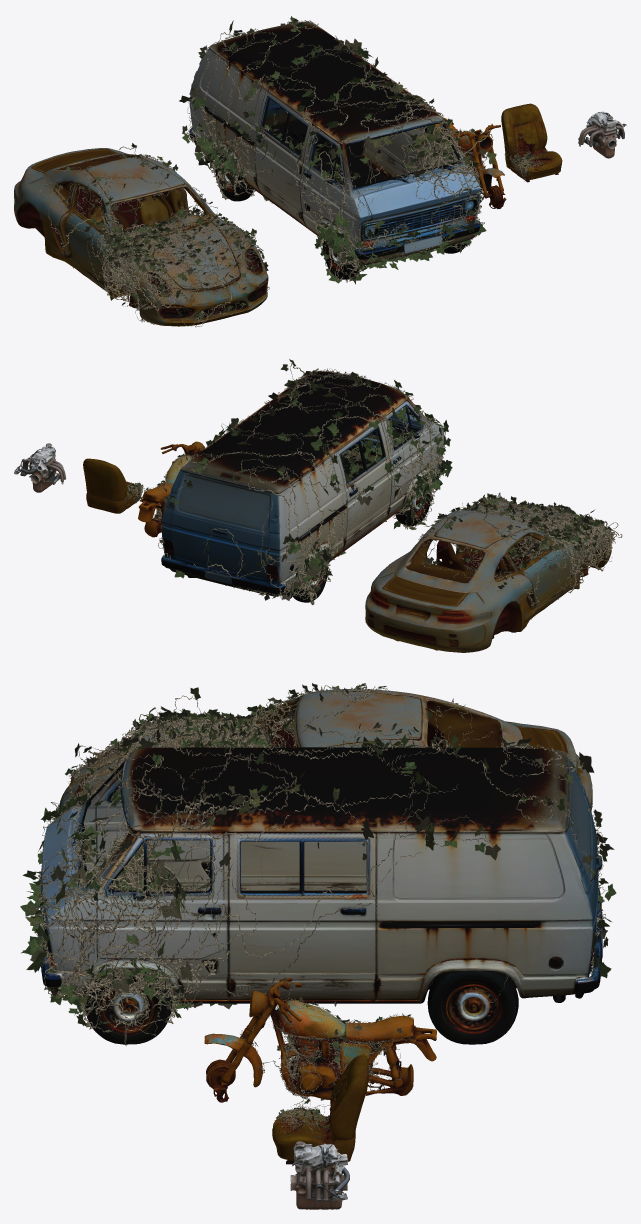
The picture shows the model from 3 angles, top to bottom: view 1: azimuth 30°, elevation 25°; view 2: azimuth 150°, elevation 25°; view 3: azimuth 270°, elevation 25°; orthographic projection. The views are drawn at different scales.
Parts seen in each view (by area): view 1: SM_asset_04, SM_asset_03, SM_ivy_10, SM_ivy_11, SM_ivy_06, SM_ivy_08, SM_ivy_09, SM_ivy_07, SM_asset_01, SM_ivy_05, SM_ivy_00, SM_asset_00 (+2 smaller); view 2: SM_asset_04, SM_asset_03, SM_ivy_10, SM_ivy_00, SM_ivy_11, SM_ivy_09, SM_ivy_08, SM_ivy_05, SM_asset_01, SM_ivy_07, SM_ivy_06, SM_asset_00 (+1 smaller); view 3: SM_asset_04, SM_ivy_06, SM_asset_03, SM_asset_00, SM_ivy_07, SM_ivy_10, SM_asset_01, SM_ivy_11, SM_ivy_09, SM_asset_02, SM_ivy_02, SM_ivy_05 (+4 smaller).
Boxes of the visible parts, x1,y1,x2,y2 form: SM_asset_04: [189, 21, 480, 279]; SM_asset_03: [14, 148, 268, 326]; SM_ivy_10: [39, 145, 269, 327]; SM_ivy_11: [44, 143, 268, 318]; SM_ivy_06: [260, 38, 493, 250]; SM_ivy_08: [244, 60, 484, 282]; SM_ivy_09: [247, 56, 486, 284]; SM_ivy_07: [252, 35, 496, 261]; SM_asset_01: [501, 103, 562, 182]; SM_ivy_05: [179, 16, 317, 199]; SM_ivy_00: [186, 20, 318, 201]; SM_asset_00: [432, 117, 506, 208]; SM_asset_04: [161, 371, 444, 602]; SM_asset_03: [365, 500, 611, 652]; SM_ivy_10: [418, 492, 622, 619]; SM_ivy_00: [158, 451, 370, 605]; SM_ivy_11: [420, 493, 612, 588]; SM_ivy_09: [277, 396, 452, 556]; SM_ivy_08: [285, 394, 447, 529]; SM_ivy_05: [159, 451, 373, 600]; SM_asset_01: [83, 458, 141, 513]; SM_ivy_07: [203, 359, 445, 555]; SM_ivy_06: [202, 363, 434, 476]; SM_asset_00: [138, 441, 205, 537]; SM_asset_04: [37, 747, 602, 1044]; SM_ivy_06: [36, 739, 508, 1045]; SM_asset_03: [59, 689, 592, 815]; SM_asset_00: [204, 977, 436, 1102]; SM_ivy_07: [25, 737, 507, 1026]; SM_ivy_10: [51, 683, 493, 814]; SM_asset_01: [272, 1055, 368, 1164]; SM_ivy_11: [58, 683, 471, 812]; SM_ivy_09: [20, 734, 458, 1018]; SM_asset_02: [290, 1141, 349, 1209]; SM_ivy_02: [240, 981, 413, 1099]; SM_ivy_05: [317, 735, 616, 979].
Size of the model in its own units: 7.78 by 2.1 by 4.57.
22 materials, 20 textured.
